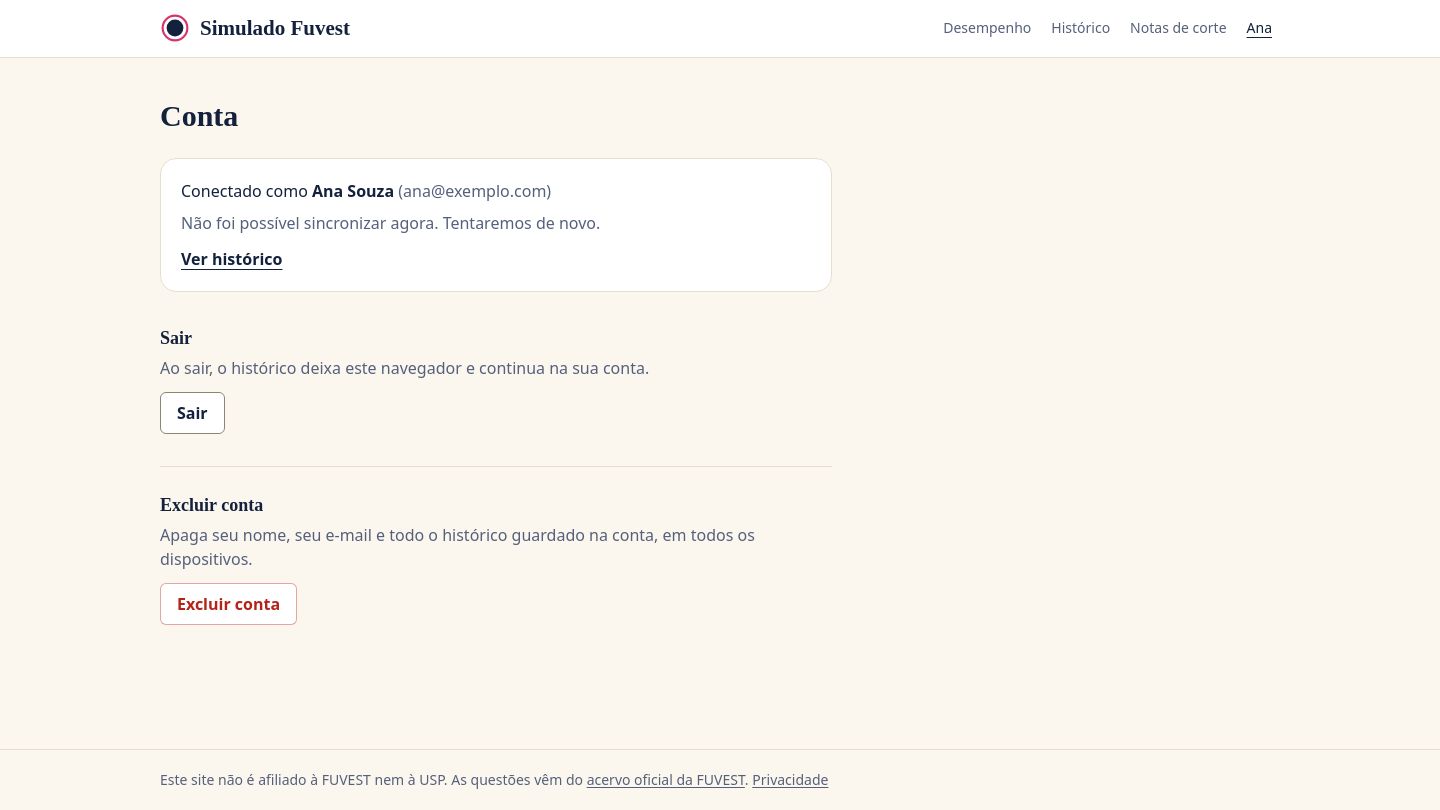
Test: Página Conta (UT-034, RF-024, RF-026) › sem conseguir enviar as pendentes, não sai nem apaga nada
This screenshot has width=1440, height=810.
Expected: the text "Não foi possível sincronizar agora. Tentaremos de novo." is shown, [181, 212, 600, 234]
Click the button "Sair".
click(192, 413)  # box [160, 392, 225, 434]
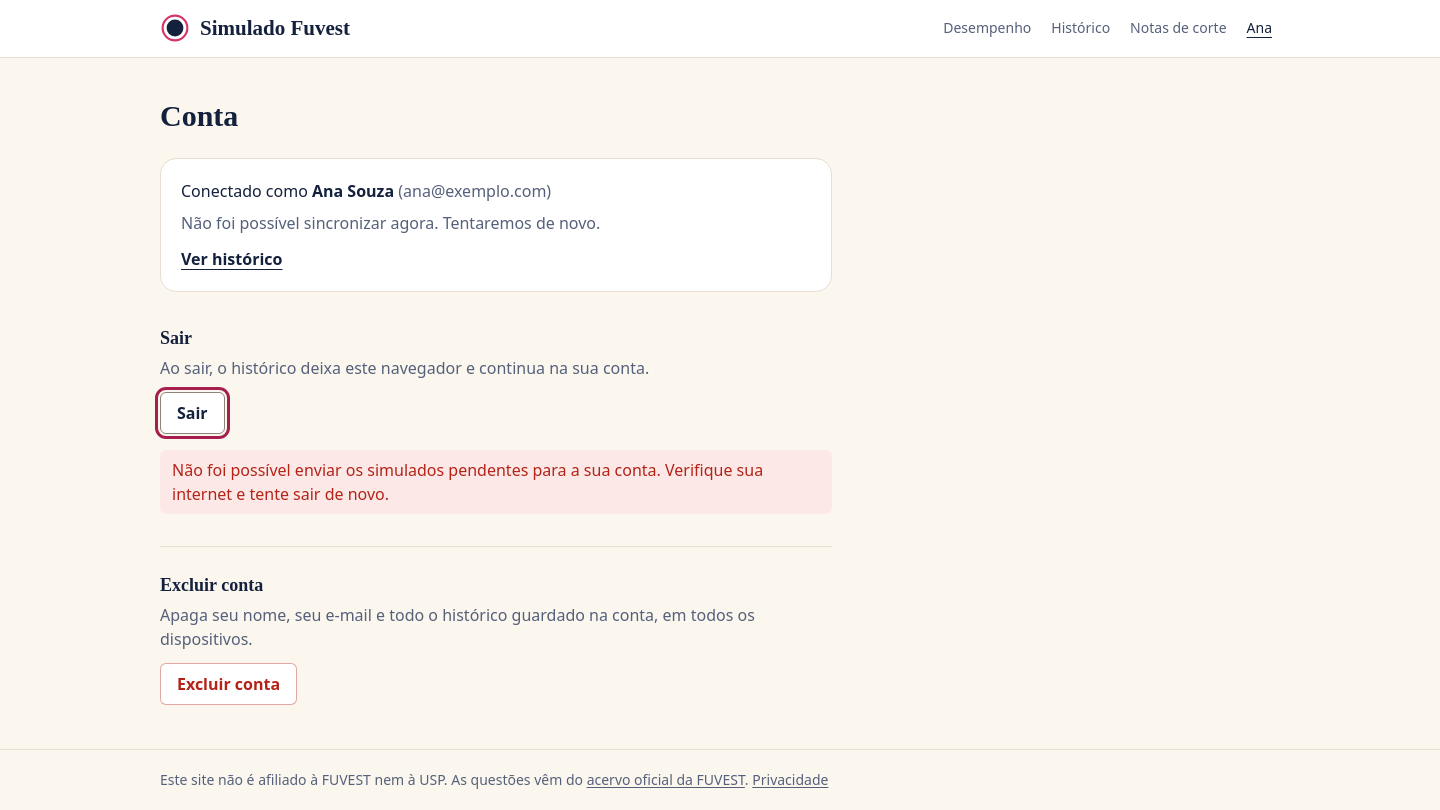
Expected: the message shows "Não foi possível enviar os simulados pendentes", [172, 459, 763, 505]
